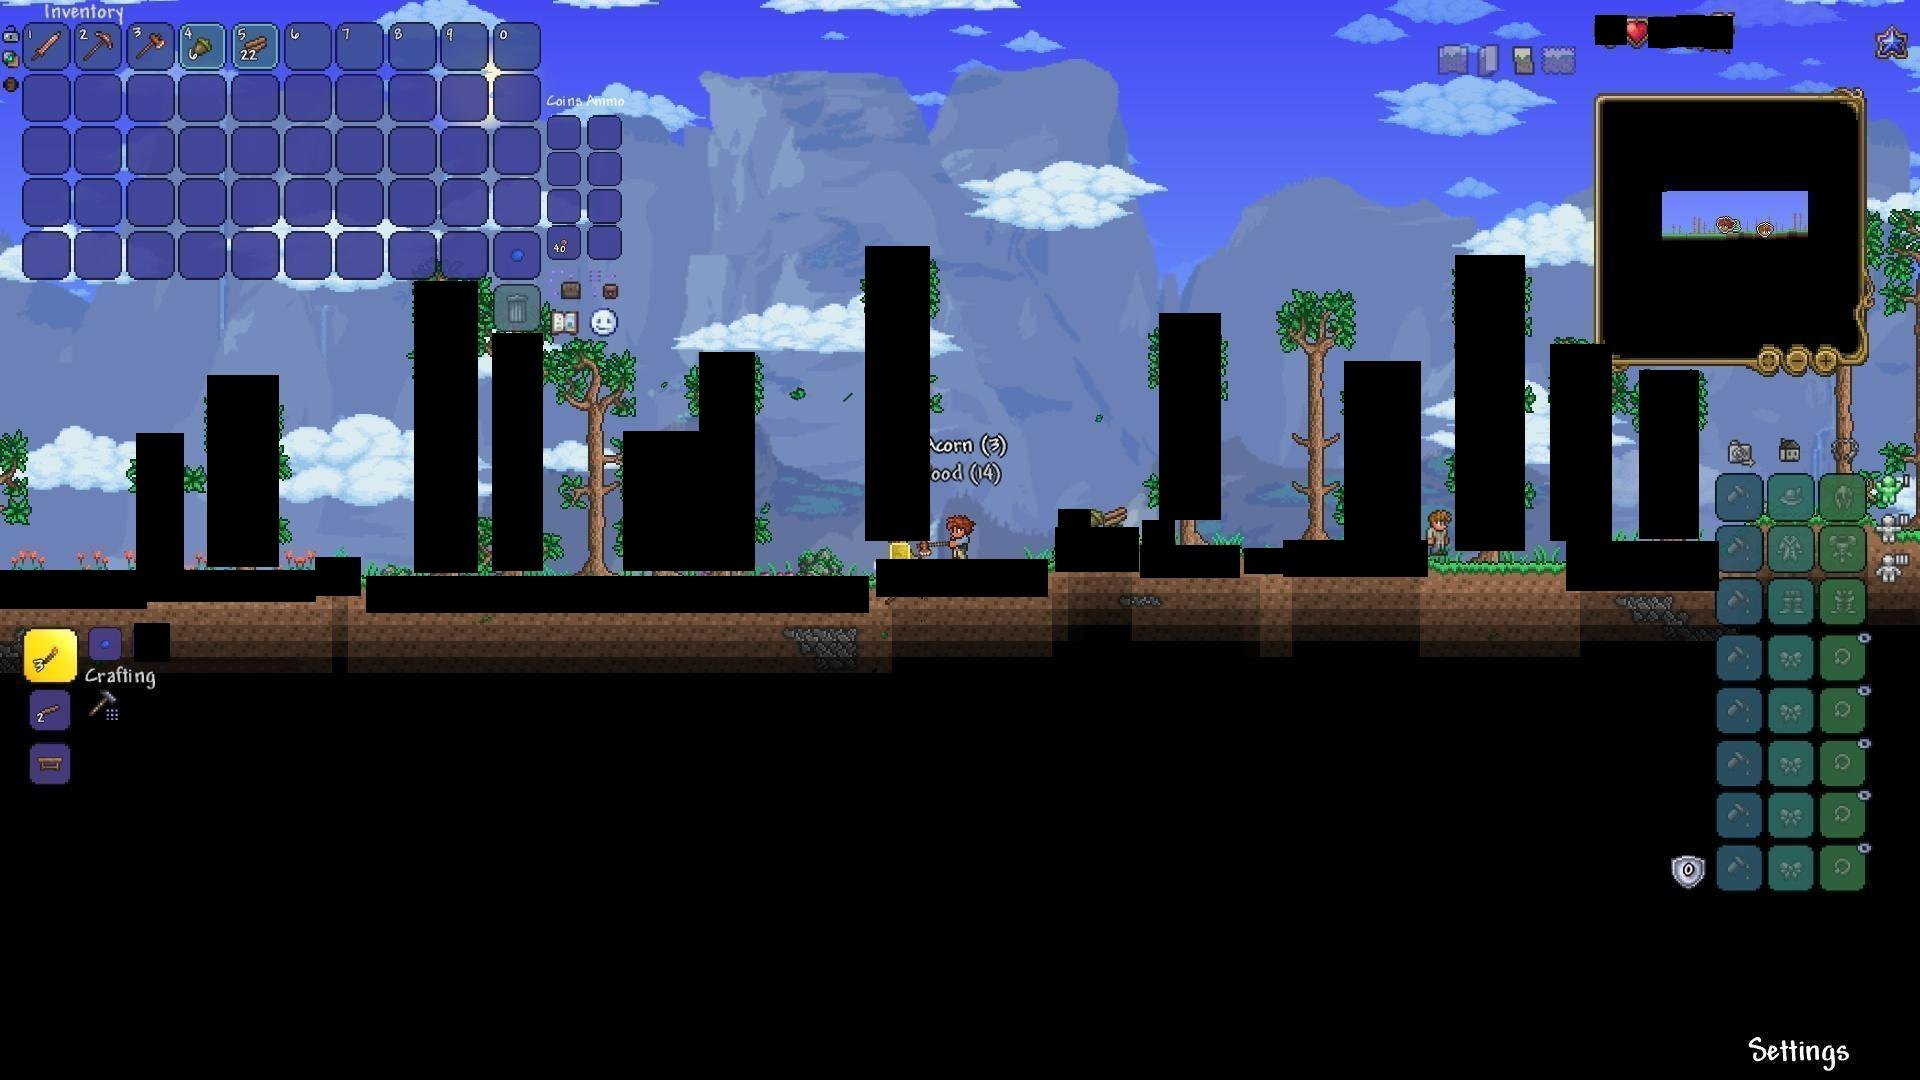dirt: (1433, 554, 1567, 589)
heart: (1625, 17, 1651, 47)
tree: (1273, 278, 1346, 541), (559, 340, 624, 574)
wood: (1102, 502, 1134, 533), (239, 36, 272, 65)
workbench: (34, 750, 71, 775)
